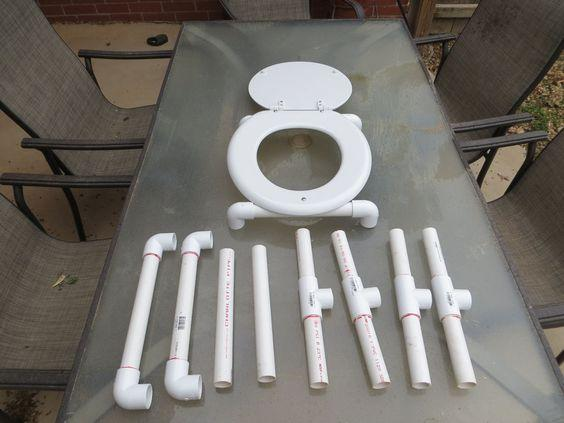PVC: (109, 230, 179, 411), (328, 227, 394, 393), (419, 224, 480, 390), (162, 228, 215, 402), (387, 227, 437, 390), (293, 226, 337, 393), (223, 198, 380, 232), (249, 243, 278, 384), (212, 244, 238, 392)
